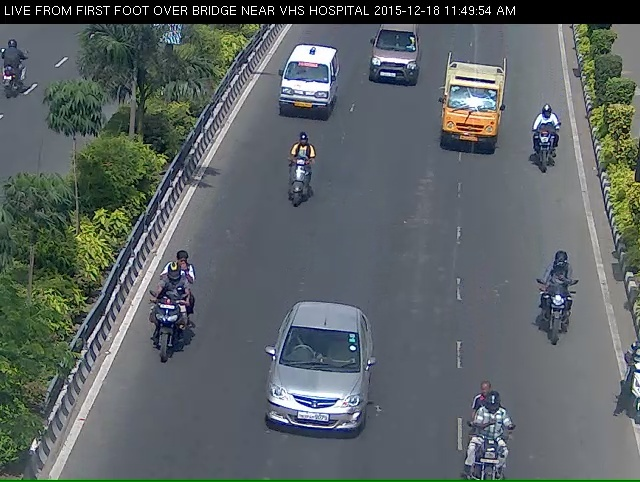Car: (260, 324, 372, 457), (434, 51, 508, 165), (273, 41, 336, 131), (365, 21, 418, 93)
Person: (458, 405, 522, 479), (145, 272, 187, 381), (277, 141, 318, 219), (539, 263, 575, 351), (527, 114, 558, 180)
